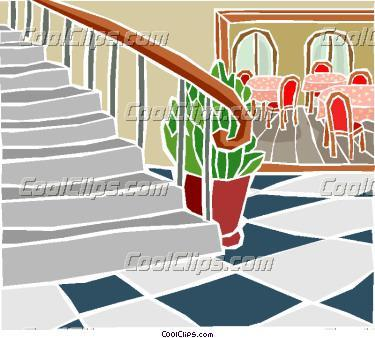chair: (321, 89, 366, 158), (263, 72, 301, 131)
pottedplant: (158, 53, 263, 251)
